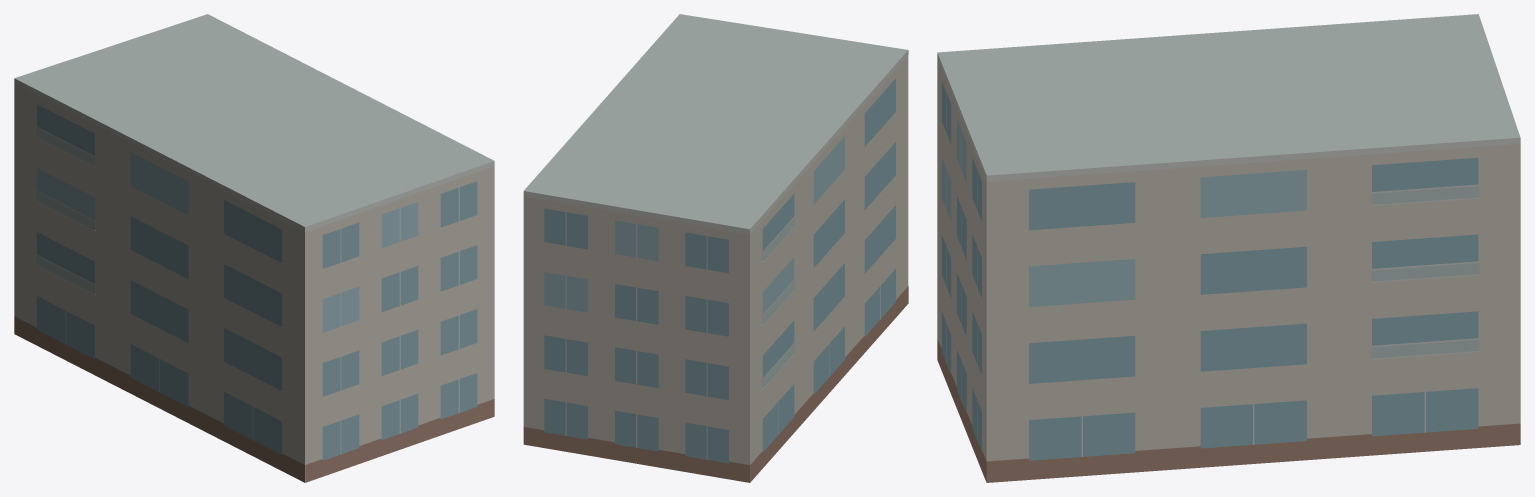
The model's file is survey-upis-32575532.glb.
The picture shows the model from 3 angles, left to right: view 1: azimuth 30°, elevation 25°; view 2: azimuth 150°, elevation 25°; view 3: azimuth 270°, elevation 25°; orthographic projection. The views are drawn at different scales.
Parts seen in each view (by area): view 1: survey-upis-32575532.tmp; view 2: survey-upis-32575532.tmp; view 3: survey-upis-32575532.tmp.
Part boxes in pixels (left/top/right/bottom): survey-upis-32575532.tmp: left=14, top=14, right=494, bottom=482; survey-upis-32575532.tmp: left=523, top=14, right=908, bottom=482; survey-upis-32575532.tmp: left=937, top=14, right=1520, bottom=482.
Bounding box in the file's own units: 13.77 × 12.2 × 21.
